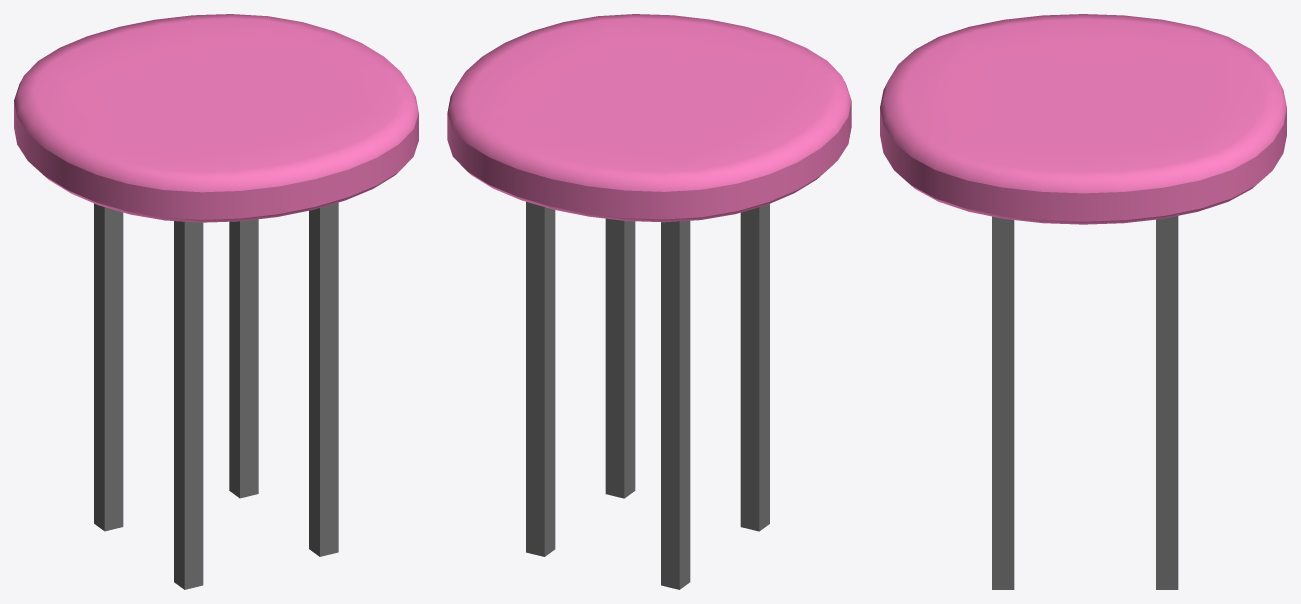
The model's file is Stool.FBX.
3 views of the same model, side by side, from view 1: azimuth 30°, elevation 25°; view 2: azimuth 150°, elevation 25°; view 3: azimuth 270°, elevation 25° (orthographic). The views are drawn at different scales.
Parts seen in each view (by area): view 1: Object004; view 2: Object004; view 3: Object004.
Part boxes in pixels (x1,y1,x2,y2): Object004: (14, 14, 418, 589); Object004: (447, 14, 851, 589); Object004: (880, 14, 1286, 589).
Bounding box in the file's own units: 181 × 223 × 181.
